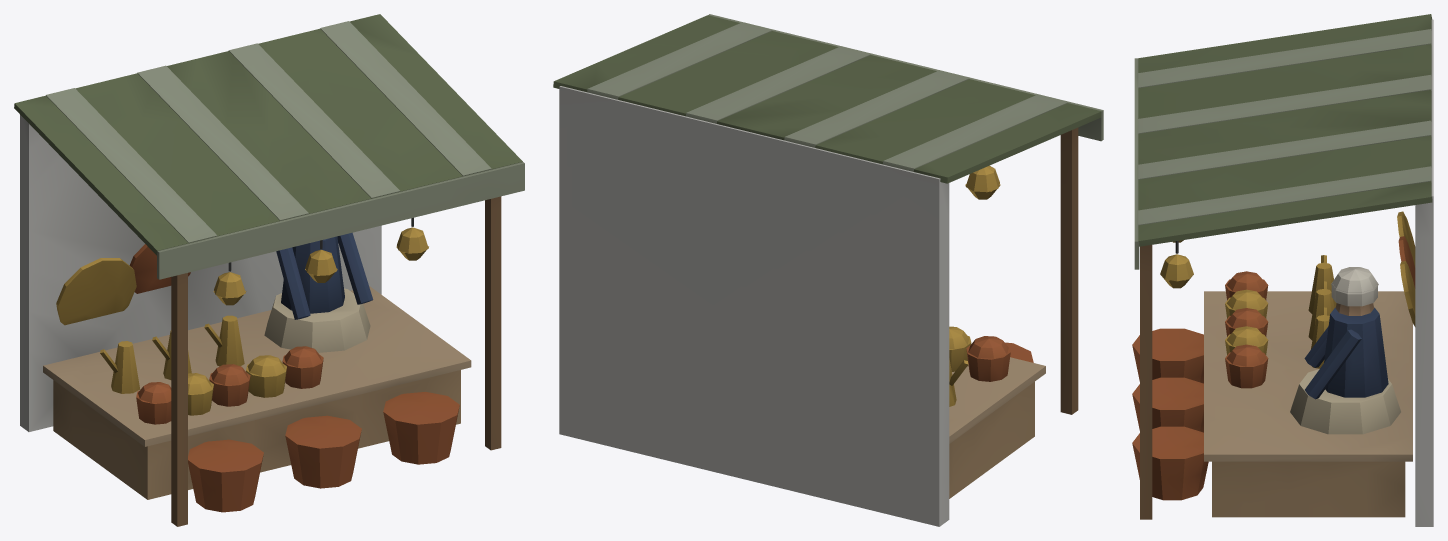
The model's file is stall-pots.glb.
3 views of the same model, side by side, from view 1: azimuth 30°, elevation 25°; view 2: azimuth 150°, elevation 25°; view 3: azimuth 270°, elevation 25° (orthographic). The views are drawn at different scales.
Visible parts, largest first — view 1: base; view 2: base; view 3: base.
Boxes of the visible parts, x1,y1,x2,y2 form: base: [14, 14, 524, 526]; base: [553, 14, 1103, 526]; base: [1132, 14, 1433, 526].
Bounding box in the file's own units: 2.8 × 2.38 × 1.95.
